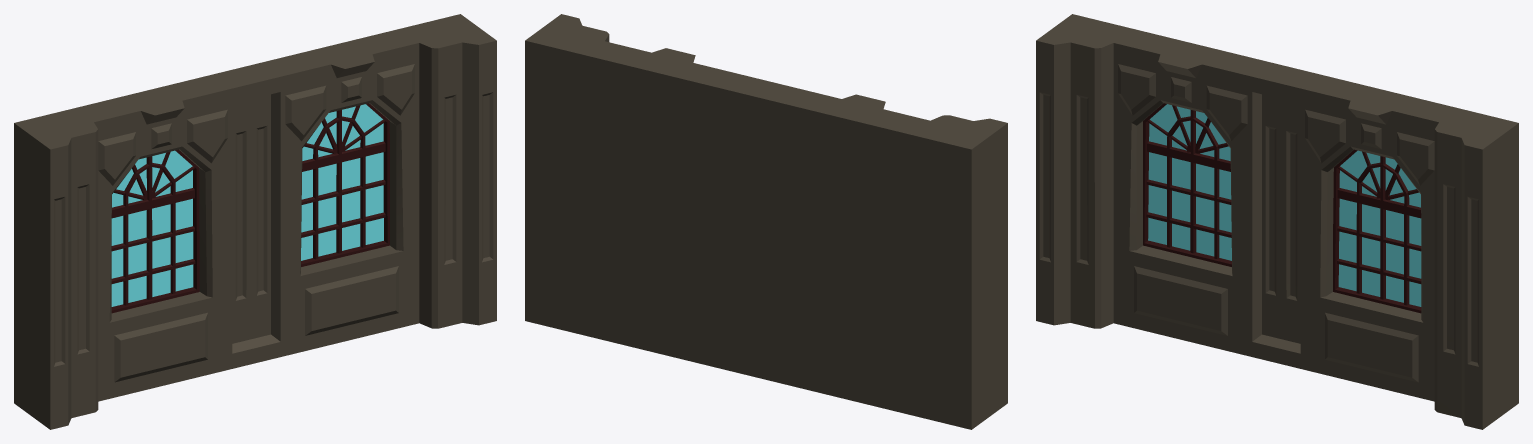
File: P_facadeDETAIL1AvecBF.FBX
3 views of the same model, side by side, from view 1: azimuth 30°, elevation 25°; view 2: azimuth 150°, elevation 25°; view 3: azimuth 330°, elevation 25° (orthographic).
Parts seen in each view (by area): view 1: Box053; view 2: Box053; view 3: Box053.
Part boxes in pixels (x1,y1,x2,y2): Box053: (14, 14, 496, 429); Box053: (525, 14, 1007, 429); Box053: (1036, 14, 1518, 429).
Size of the model in its own units: 500 by 70.51 by 300.
